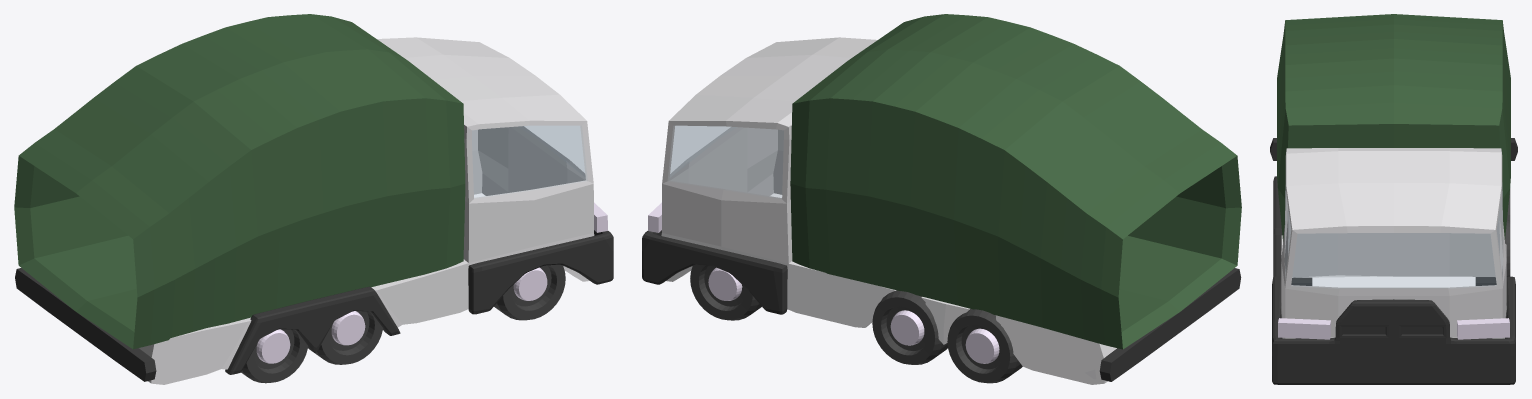
The model's file is Garbage Truck.fbx.
3 renders of one model, left to right at view 1: azimuth 30°, elevation 25°; view 2: azimuth 150°, elevation 25°; view 3: azimuth 270°, elevation 25°, orthographic. The views are drawn at different scales.
Parts seen in each view (by area): view 1: Trunk, Body, Front Bumber, Fenders, Body.001, Wheels Frotn, Wheels Back 1, Wheels Back 2; view 2: Trunk, Body, Front Bumber, Wheels Back 1, Wheels Back 2, Body.001, Wheels Frotn; view 3: Body, Trunk, Front Bumber, Cube, Fenders, Wheels Back 1, Body.001.
Part boxes in pixels (x1,y1,x2,y2): Trunk: (14, 14, 465, 349); Body: (139, 37, 594, 384); Front Bumber: (468, 230, 613, 314); Fenders: (225, 286, 400, 374); Body.001: (15, 268, 156, 381); Wheels Frotn: (494, 264, 565, 320); Wheels Back 1: (308, 311, 382, 364); Wheels Back 2: (241, 329, 307, 383); Trunk: (790, 14, 1241, 349); Body: (661, 37, 1116, 384); Front Bumber: (642, 230, 787, 314); Wheels Back 1: (872, 290, 947, 364); Wheels Back 2: (947, 309, 1022, 383); Body.001: (1099, 268, 1241, 381); Wheels Frotn: (690, 264, 761, 320); Body: (1281, 148, 1506, 338); Trunk: (1277, 14, 1510, 241); Front Bumber: (1272, 276, 1515, 384); Cube: (1278, 318, 1509, 339); Fenders: (1273, 176, 1282, 276); Wheels Back 1: (1291, 219, 1510, 285); Body.001: (1270, 138, 1517, 160).
Size of what is drawn, in the model's own units: 670 by 352 by 320.
